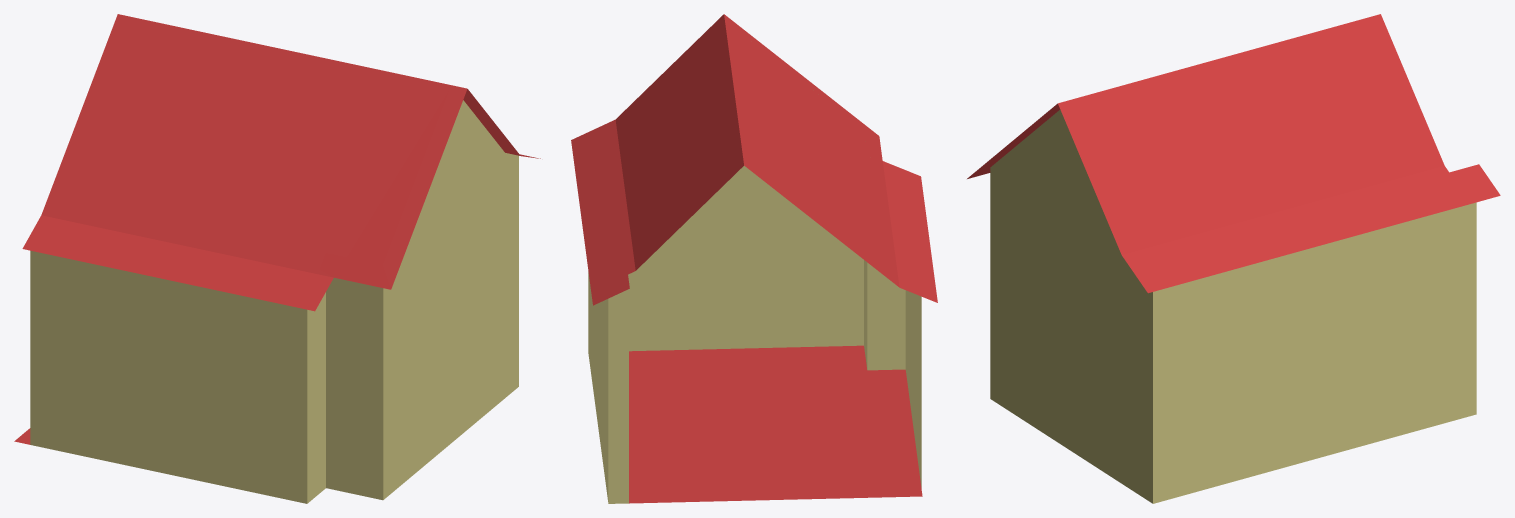
3 renders of one model, left to right at view 1: azimuth 30°, elevation 25°; view 2: azimuth 150°, elevation 25°; view 3: azimuth 270°, elevation 25°, orthographic. The views are drawn at different scales.
Bounding box in the file's own units: 22.37 × 22.84 × 16.62.
